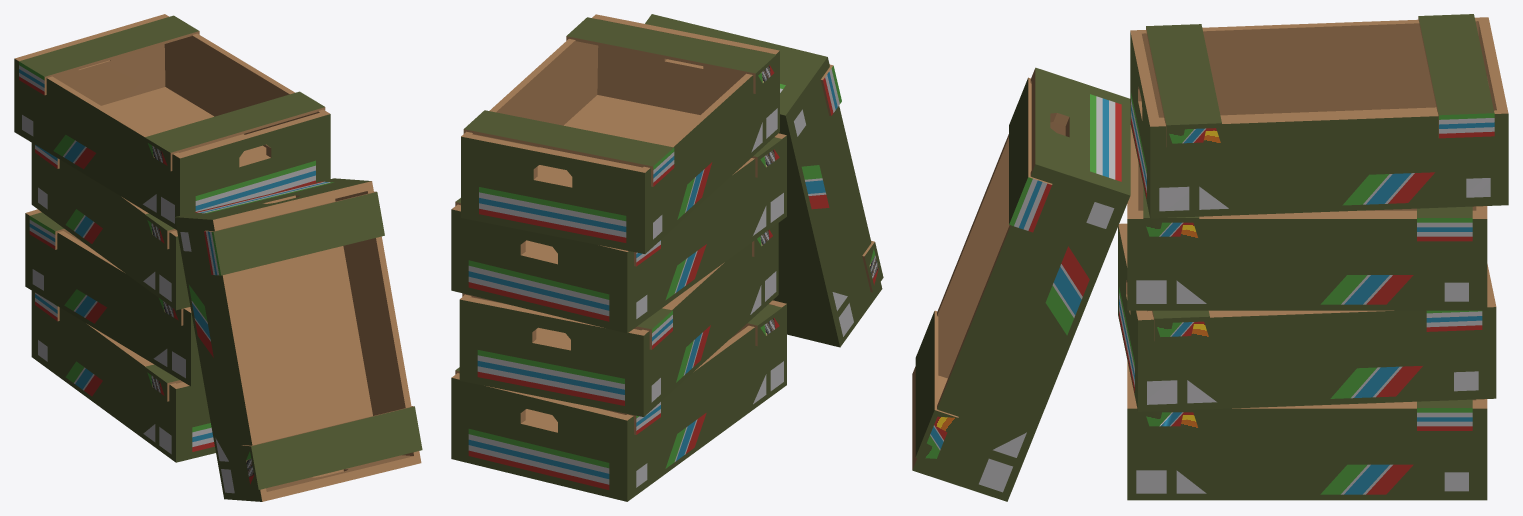
File: SM_crate_4_set.gltf
3 views of the same model, side by side, from view 1: azimuth 30°, elevation 25°; view 2: azimuth 150°, elevation 25°; view 3: azimuth 270°, elevation 25° (orthographic). The views are drawn at different scales.
Visible parts, largest first — view 1: SM_crate_4_set; view 2: SM_crate_4_set; view 3: SM_crate_4_set.
Part boxes in pixels (x1,y1,x2,y2): SM_crate_4_set: [14, 14, 422, 501]; SM_crate_4_set: [451, 14, 883, 501]; SM_crate_4_set: [912, 14, 1508, 501].
Bounding box in the file's own units: 0.8147 × 1.26 × 1.78.
Materials: 1 (1 with a texture image).
